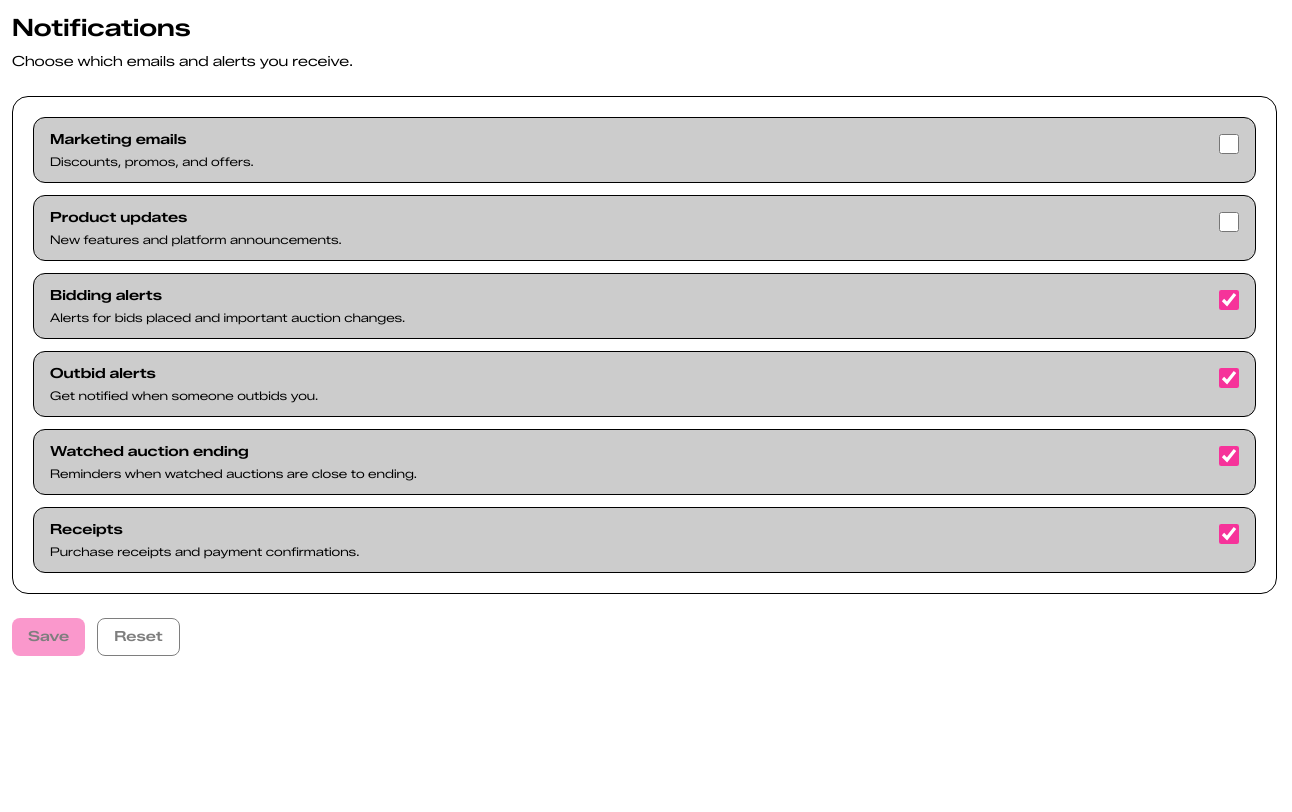
Test case: AccountNotificationsPage › saves updated preferences
Click the checkbox labelled "Marketing emails Discounts, promos, and offers.": coordinates (1229, 144) [1219,134,1239,154]
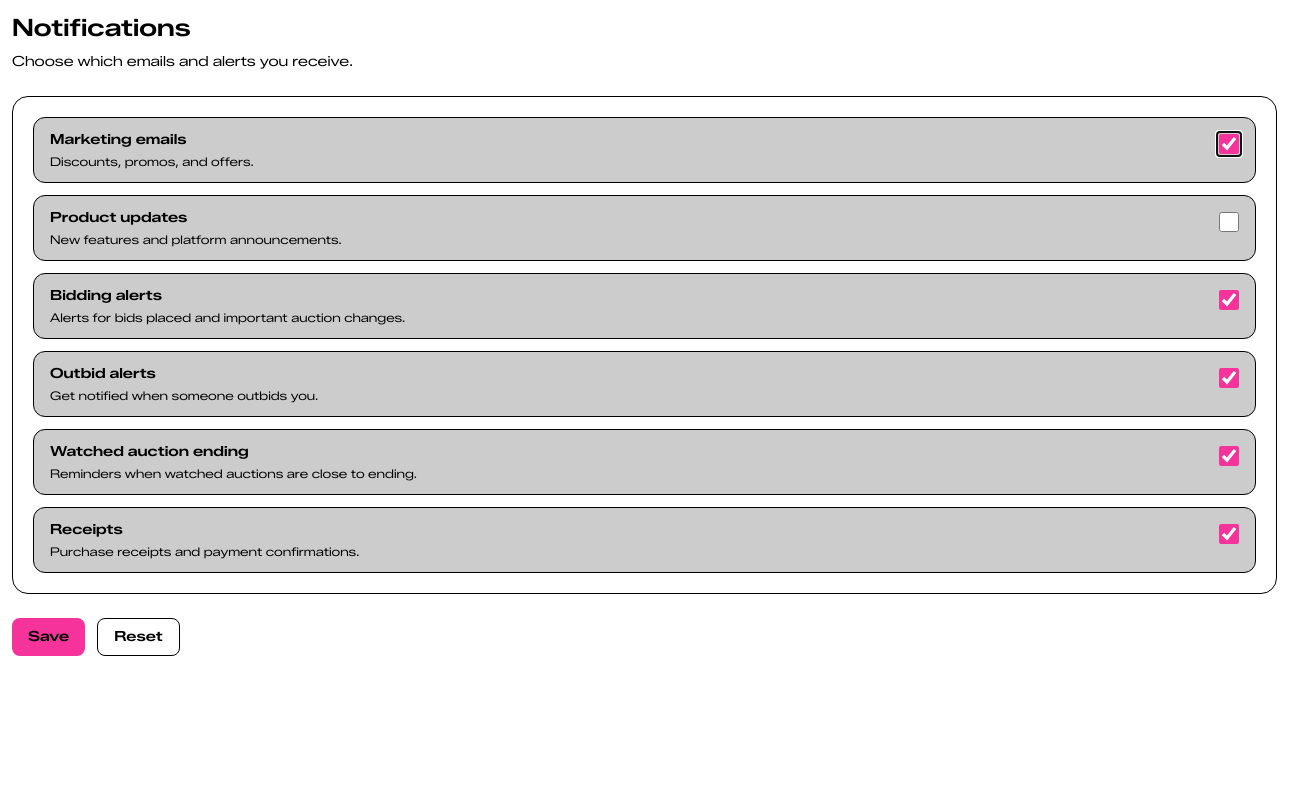
Click the button "Save": coordinates (49, 637) [12,618,85,656]
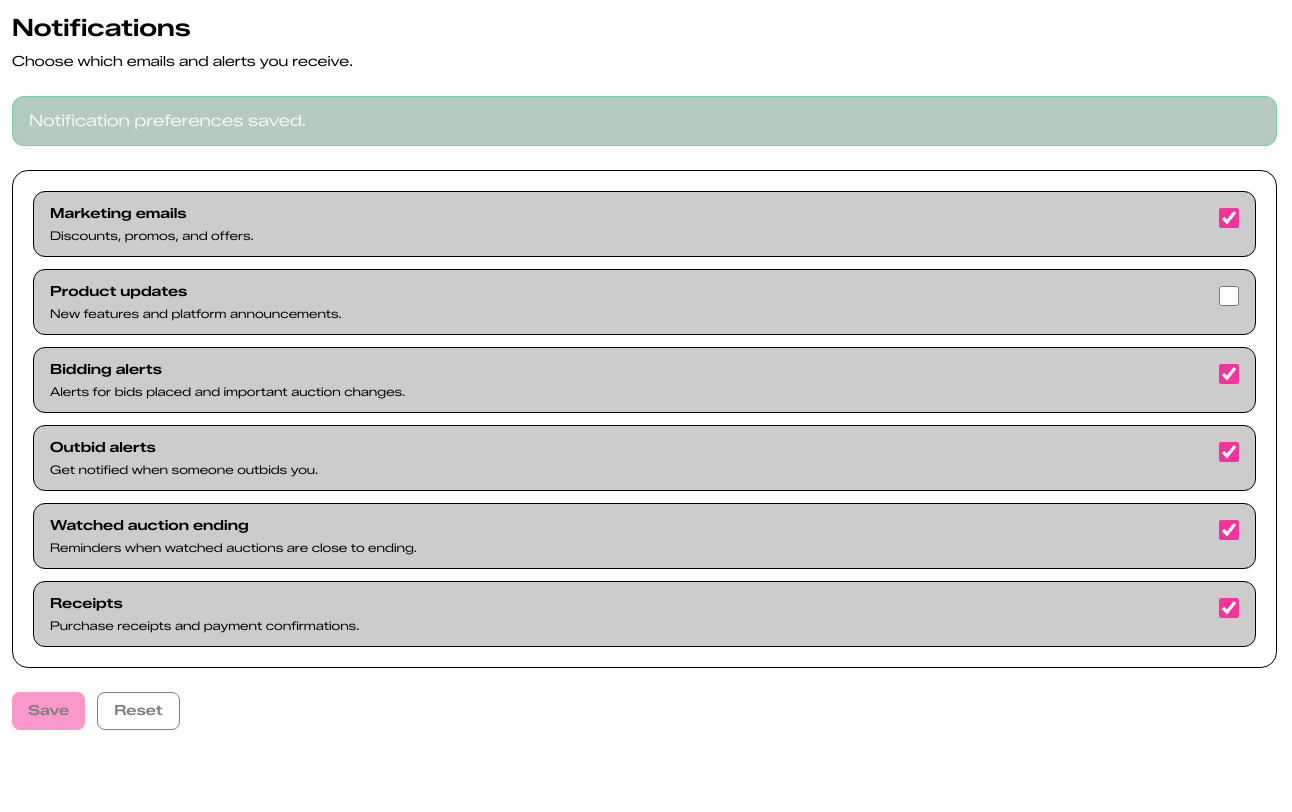
Check: the text "Notification preferences saved." is shown, box [12,96,1277,146]
